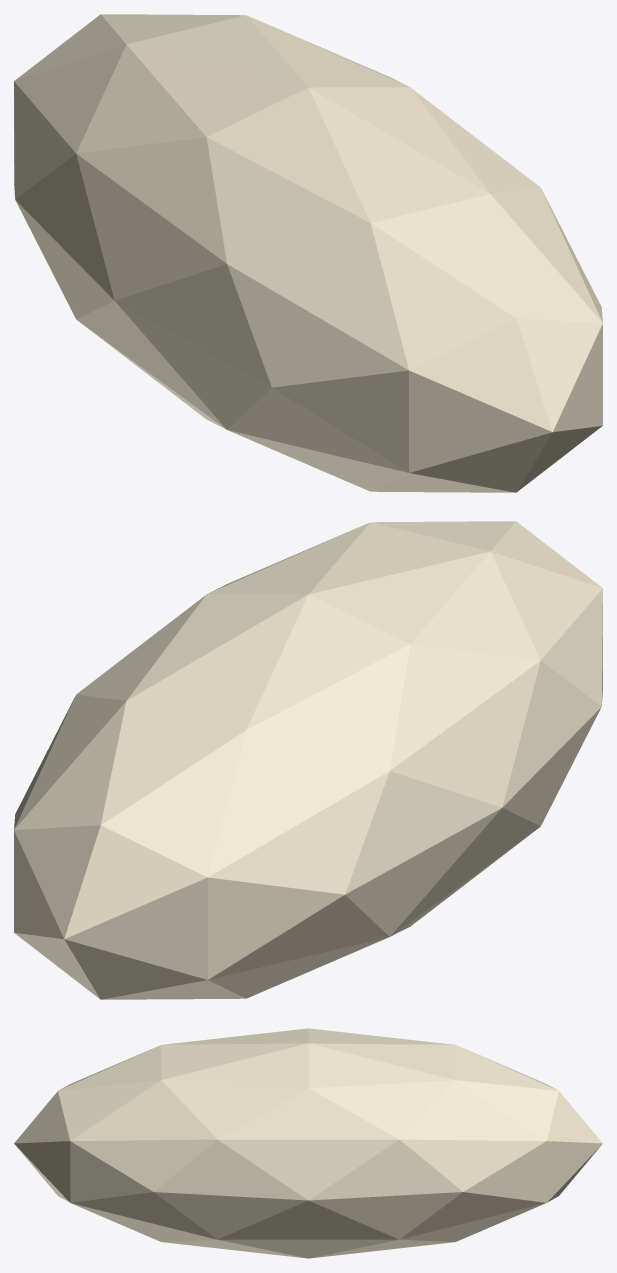
The model's file is seed_monocot.glb.
3 views of the same model, one above another, from view 1: azimuth 30°, elevation 25°; view 2: azimuth 150°, elevation 25°; view 3: azimuth 270°, elevation 25° (orthographic). The views are drawn at different scales.
Visible parts, largest first — view 1: seed; view 2: seed; view 3: seed.
Part boxes in pixels (x1=…): seed: x1=14, y1=14, x2=602, y2=492; seed: x1=14, y1=521, x2=602, y2=999; seed: x1=14, y1=1028, x2=602, y2=1258.
Bounding box in the file's own units: 0.0044 × 0.0036 × 0.0096.
